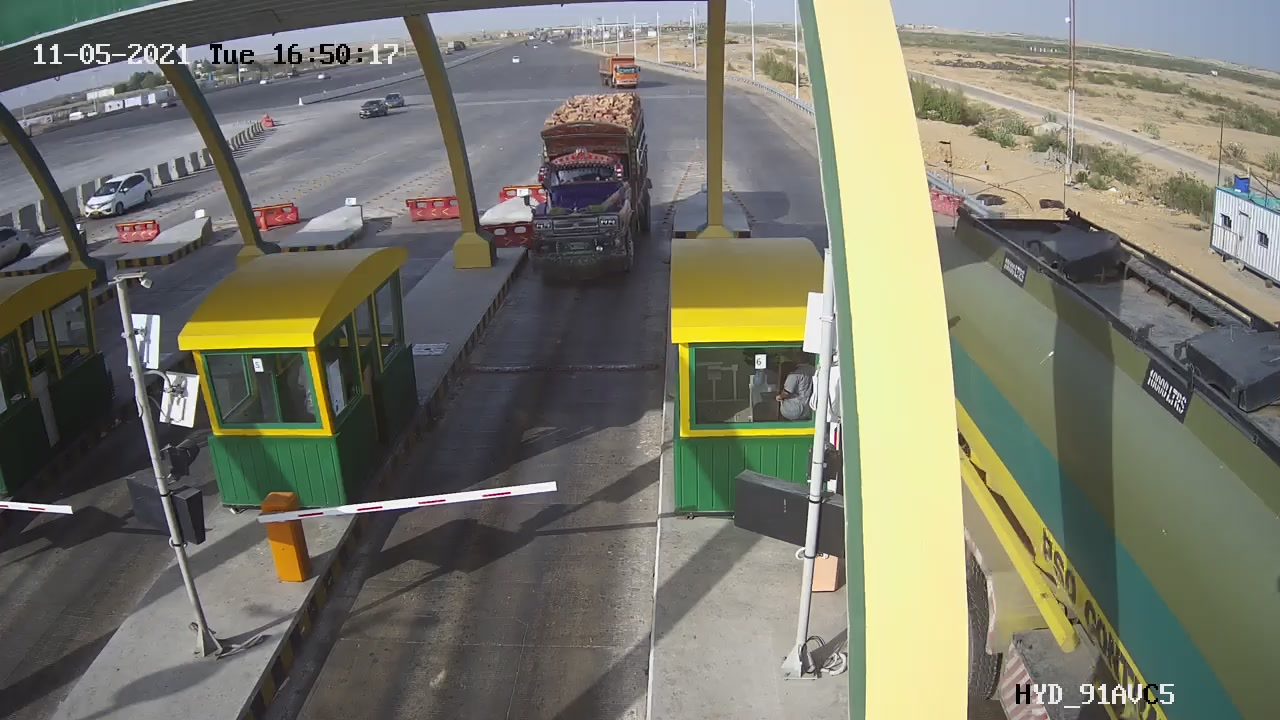F5: (509, 81, 678, 298)
